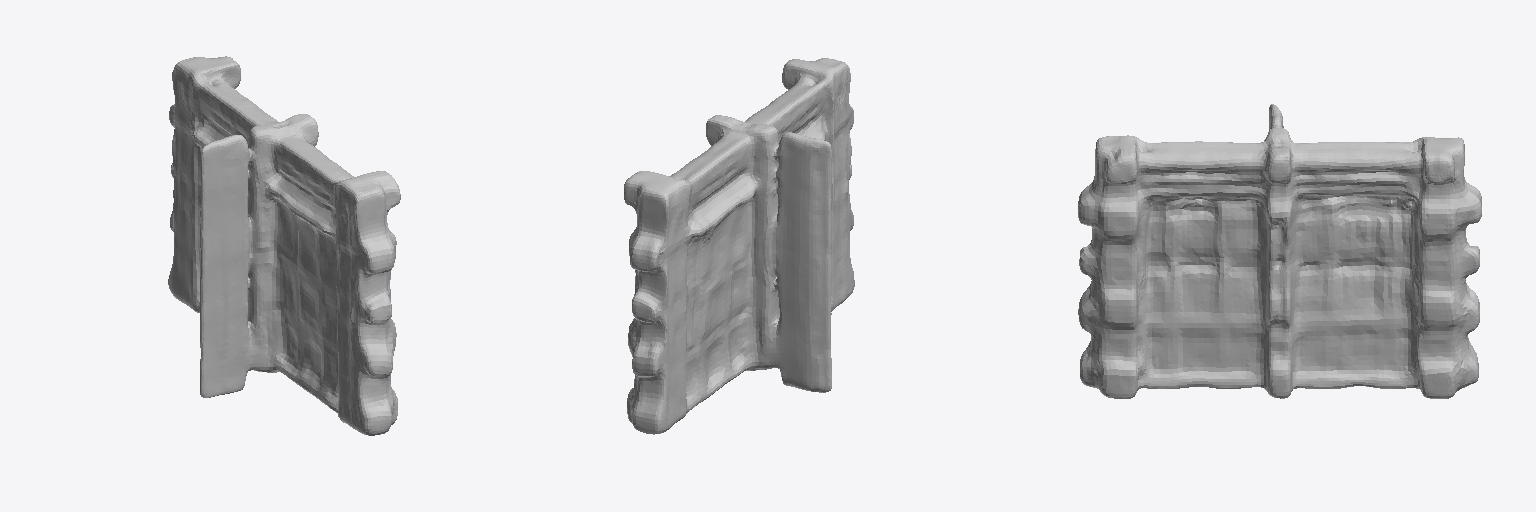
Rendered from 3cd58949a147_a_large_sci_fi_wall.obj.
3 views of the same model, side by side, from view 1: azimuth 30°, elevation 25°; view 2: azimuth 150°, elevation 25°; view 3: azimuth 270°, elevation 25° (orthographic).
Visible parts, largest first — view 1: mesh; view 2: mesh; view 3: mesh.
Part boxes in pixels (x1,y1,x2,y2): mesh: (168,56,400,435); mesh: (624,58,854,434); mesh: (1078,104,1481,398).
Bounding box in the file's own units: 0.3425 × 0.6963 × 0.9995.